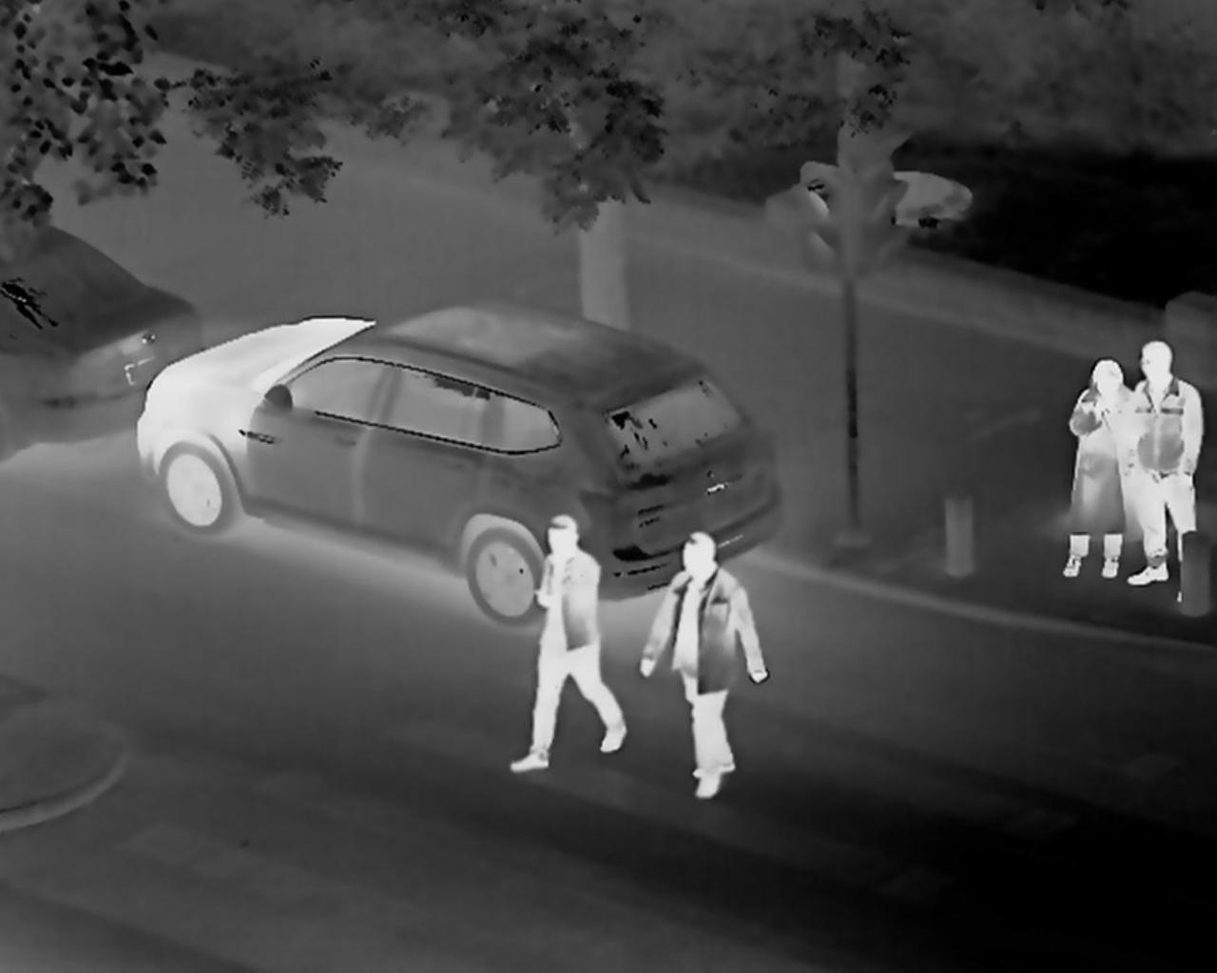person: (641, 520, 763, 830), (505, 506, 610, 753), (1052, 348, 1131, 590), (1134, 339, 1192, 602)
